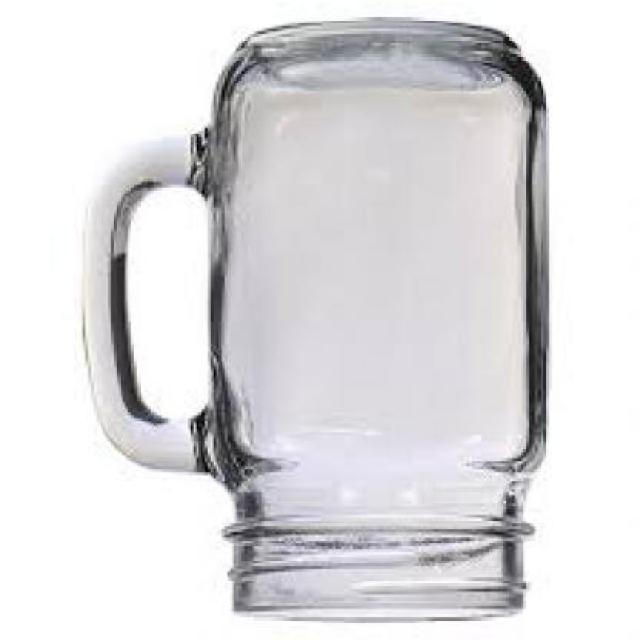GLASS: (86, 23, 552, 623)
